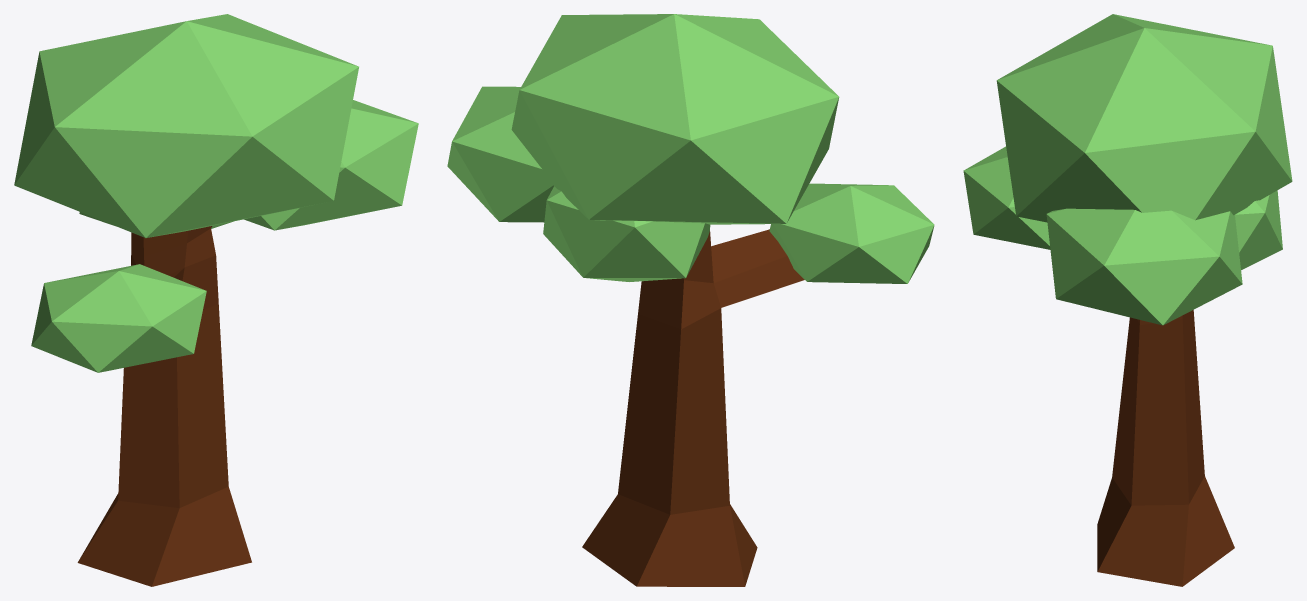
The model's file is Tree_1.fbx.
The picture shows the model from 3 angles, left to right: view 1: azimuth 30°, elevation 25°; view 2: azimuth 150°, elevation 25°; view 3: azimuth 270°, elevation 25°; orthographic projection. The views are drawn at different scales.
Visible parts, largest first — view 1: Tree_1; view 2: Tree_1; view 3: Tree_1.
Boxes of the visible parts, x1,y1,x2,y2 form: Tree_1: (14, 14, 418, 586); Tree_1: (447, 14, 934, 586); Tree_1: (963, 14, 1292, 586).
Size of the model in its own units: 751 by 927 by 528.
